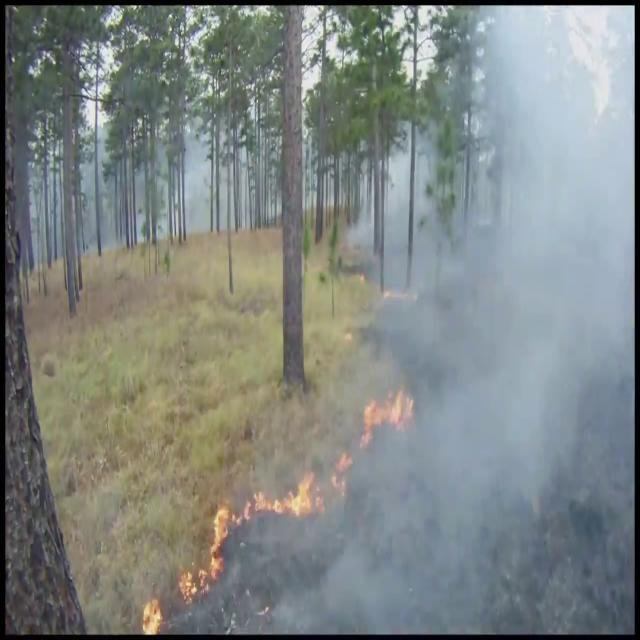Fire: (179, 493, 237, 602), (252, 462, 322, 522), (360, 378, 416, 448), (138, 591, 166, 635)
Smoke: (318, 7, 634, 629)
